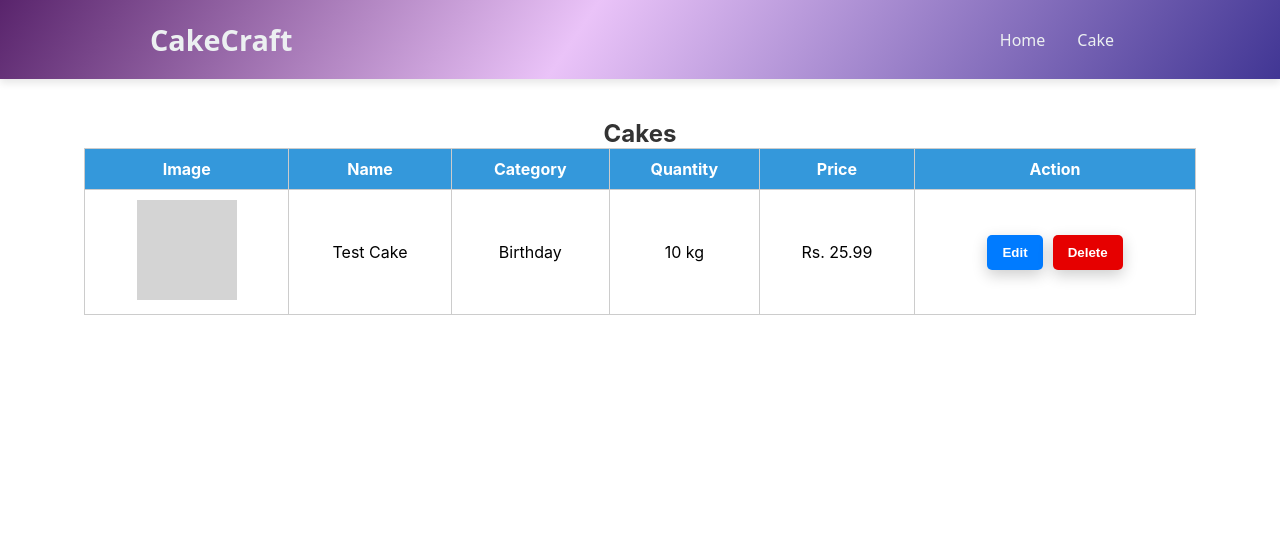
Test: ViewCake Component › frontend_viewcake_handlesDeleteConfirmation
The width and height of the screenshot is (1280, 544).
Click the button "Delete" at (1088, 252), box [1053,234,1123,270]
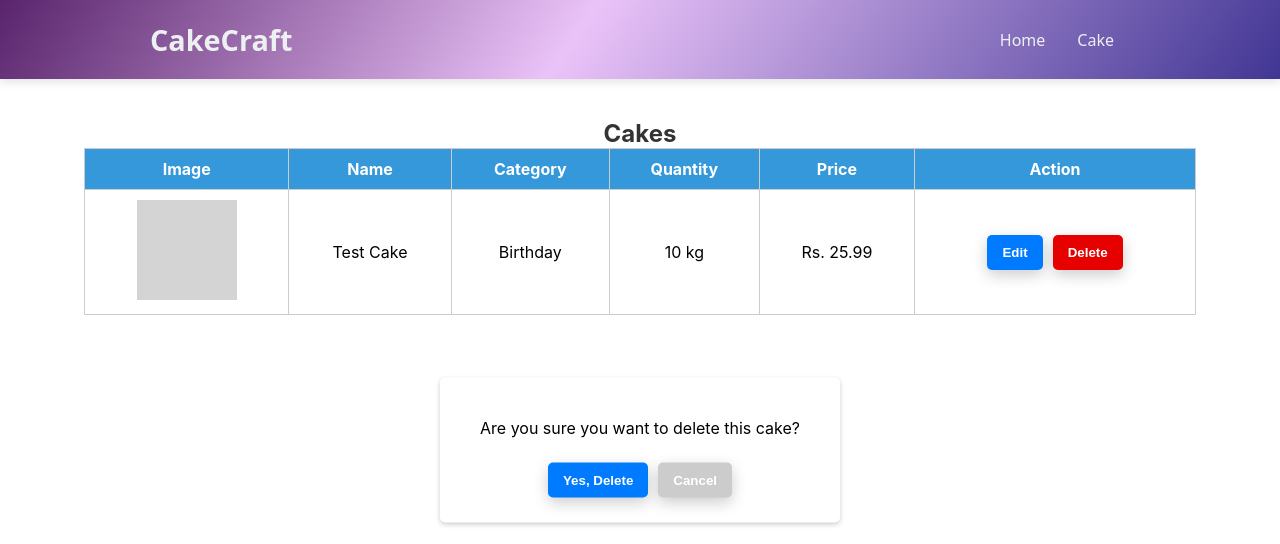
Result: the text "Are you sure you want to delete this cake?" is shown at [480,418,800,438]
